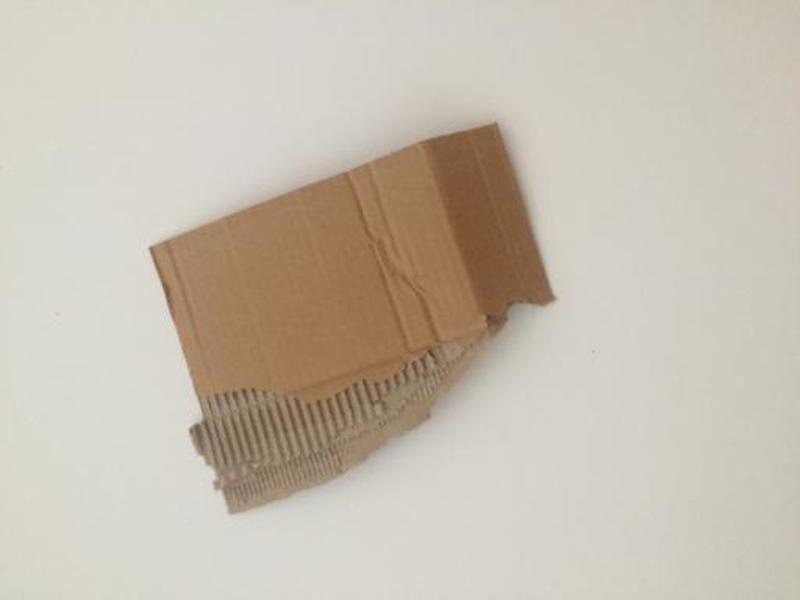cardboard: (141, 122, 561, 515)
